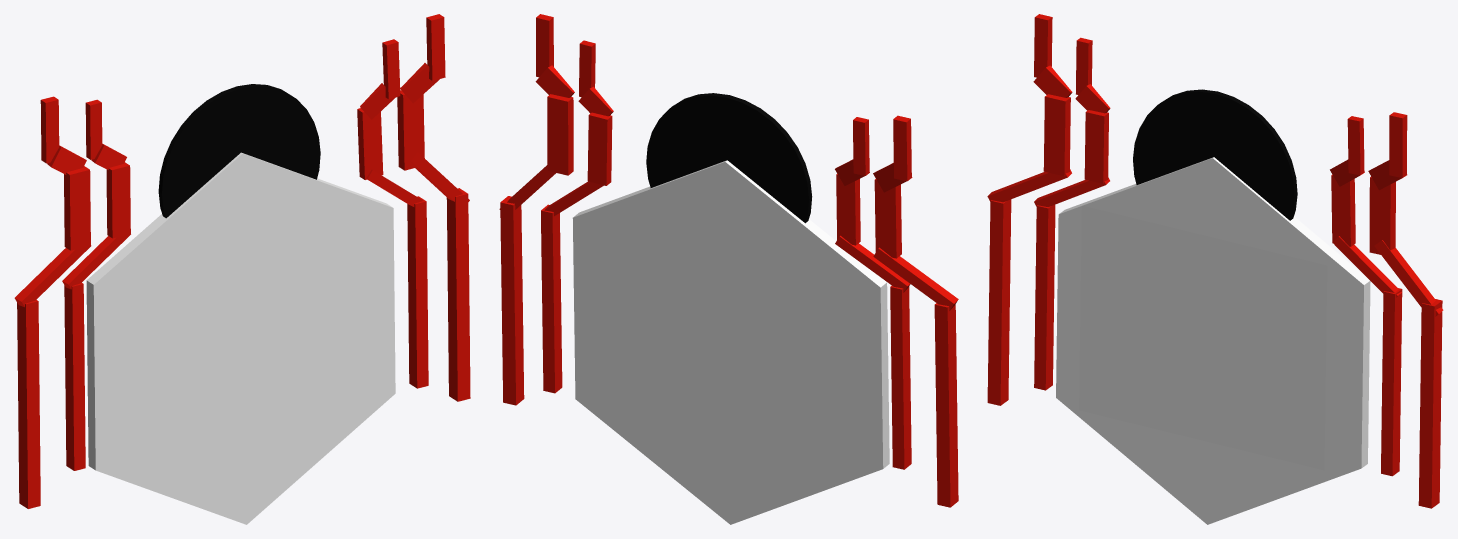
3 renders of one model, left to right at view 1: azimuth 30°, elevation 25°; view 2: azimuth 150°, elevation 25°; view 3: azimuth 330°, elevation 25°, orthographic.
Parts seen in each view (by area): view 1: Plane.020, Circle.002, Circle.003, Plane.015, Plane.005, Plane.010, Plane, Plane.007, Plane.017, Plane.002, Plane.012, Plane.006 (+11 smaller); view 2: Circle.002, Circle.003, Plane.015, Plane.005, Plane, Plane.010, Plane.017, Plane.007, Plane.012, Plane.002, Plane.006, Plane.009 (+8 smaller); view 3: Plane.020, Circle.002, Circle.003, Plane.005, Plane.015, Plane, Plane.010, Plane.007, Plane.017, Plane.002, Plane.012, Plane.016 (+9 smaller).
Part boxes in pixels (box(x1,y1,x2,y2)): Plane.020: box(117, 204, 367, 471); Circle.002: box(86, 152, 395, 524); Circle.003: box(158, 84, 320, 218); Plane.015: box(446, 188, 470, 401); Plane.005: box(17, 300, 40, 508); Plane.010: box(407, 196, 428, 388); Plane: box(64, 283, 85, 470); Plane.007: box(64, 166, 90, 250); Plane.017: box(397, 90, 424, 170); Plane.002: box(106, 162, 130, 238); Plane.012: box(357, 108, 383, 179); Plane.006: box(14, 245, 91, 307); Circle.002: box(572, 160, 889, 524); Circle.003: box(646, 93, 812, 223); Plane.015: box(500, 196, 524, 405); Plane.005: box(934, 303, 958, 507); Plane: box(890, 286, 911, 469); Plane.010: box(541, 204, 562, 393); Plane.017: box(547, 94, 573, 175); Plane.007: box(874, 179, 901, 258); Plane.012: box(587, 112, 612, 185); Plane.002: box(836, 174, 860, 245); Plane.006: box(873, 247, 958, 310); Plane.009: box(893, 115, 911, 181); Plane.020: box(1079, 205, 1327, 470); Circle.002: box(1056, 157, 1370, 524); Circle.003: box(1133, 89, 1297, 220); Plane.005: box(987, 199, 1011, 405); Plane.015: box(1418, 299, 1442, 508); Plane: box(1034, 205, 1055, 390); Plane.010: box(1381, 288, 1402, 476); Plane.007: box(1043, 94, 1070, 176); Plane.017: box(1369, 176, 1395, 254); Plane.002: box(1084, 110, 1108, 183); Plane.012: box(1331, 174, 1355, 246); Plane.016: box(1374, 240, 1443, 316).
Bounding box in the file's own units: 2.58 × 2.5 × 0.197.
